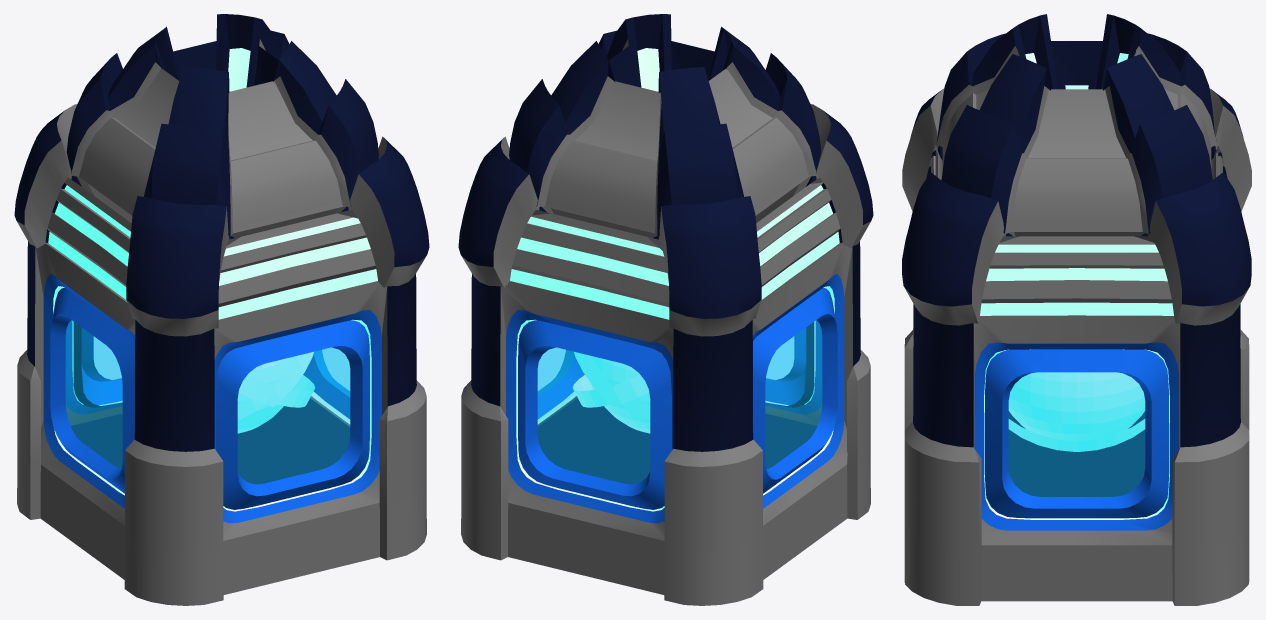
The model's file is bomba kule 2.fbx.
The picture shows the model from 3 angles, left to right: view 1: azimuth 30°, elevation 25°; view 2: azimuth 150°, elevation 25°; view 3: azimuth 270°, elevation 25°; orthographic projection. The views are drawn at different scales.
Parts seen in each view (by area): view 1: Cube.007; view 2: Cube.007; view 3: Cube.007.
Part boxes in pixels (bbox=[...]): Cube.007: bbox=[14, 14, 429, 605]; Cube.007: bbox=[458, 14, 873, 605]; Cube.007: bbox=[902, 14, 1251, 605].
Size of the model in its own units: 227 by 354 by 227.
